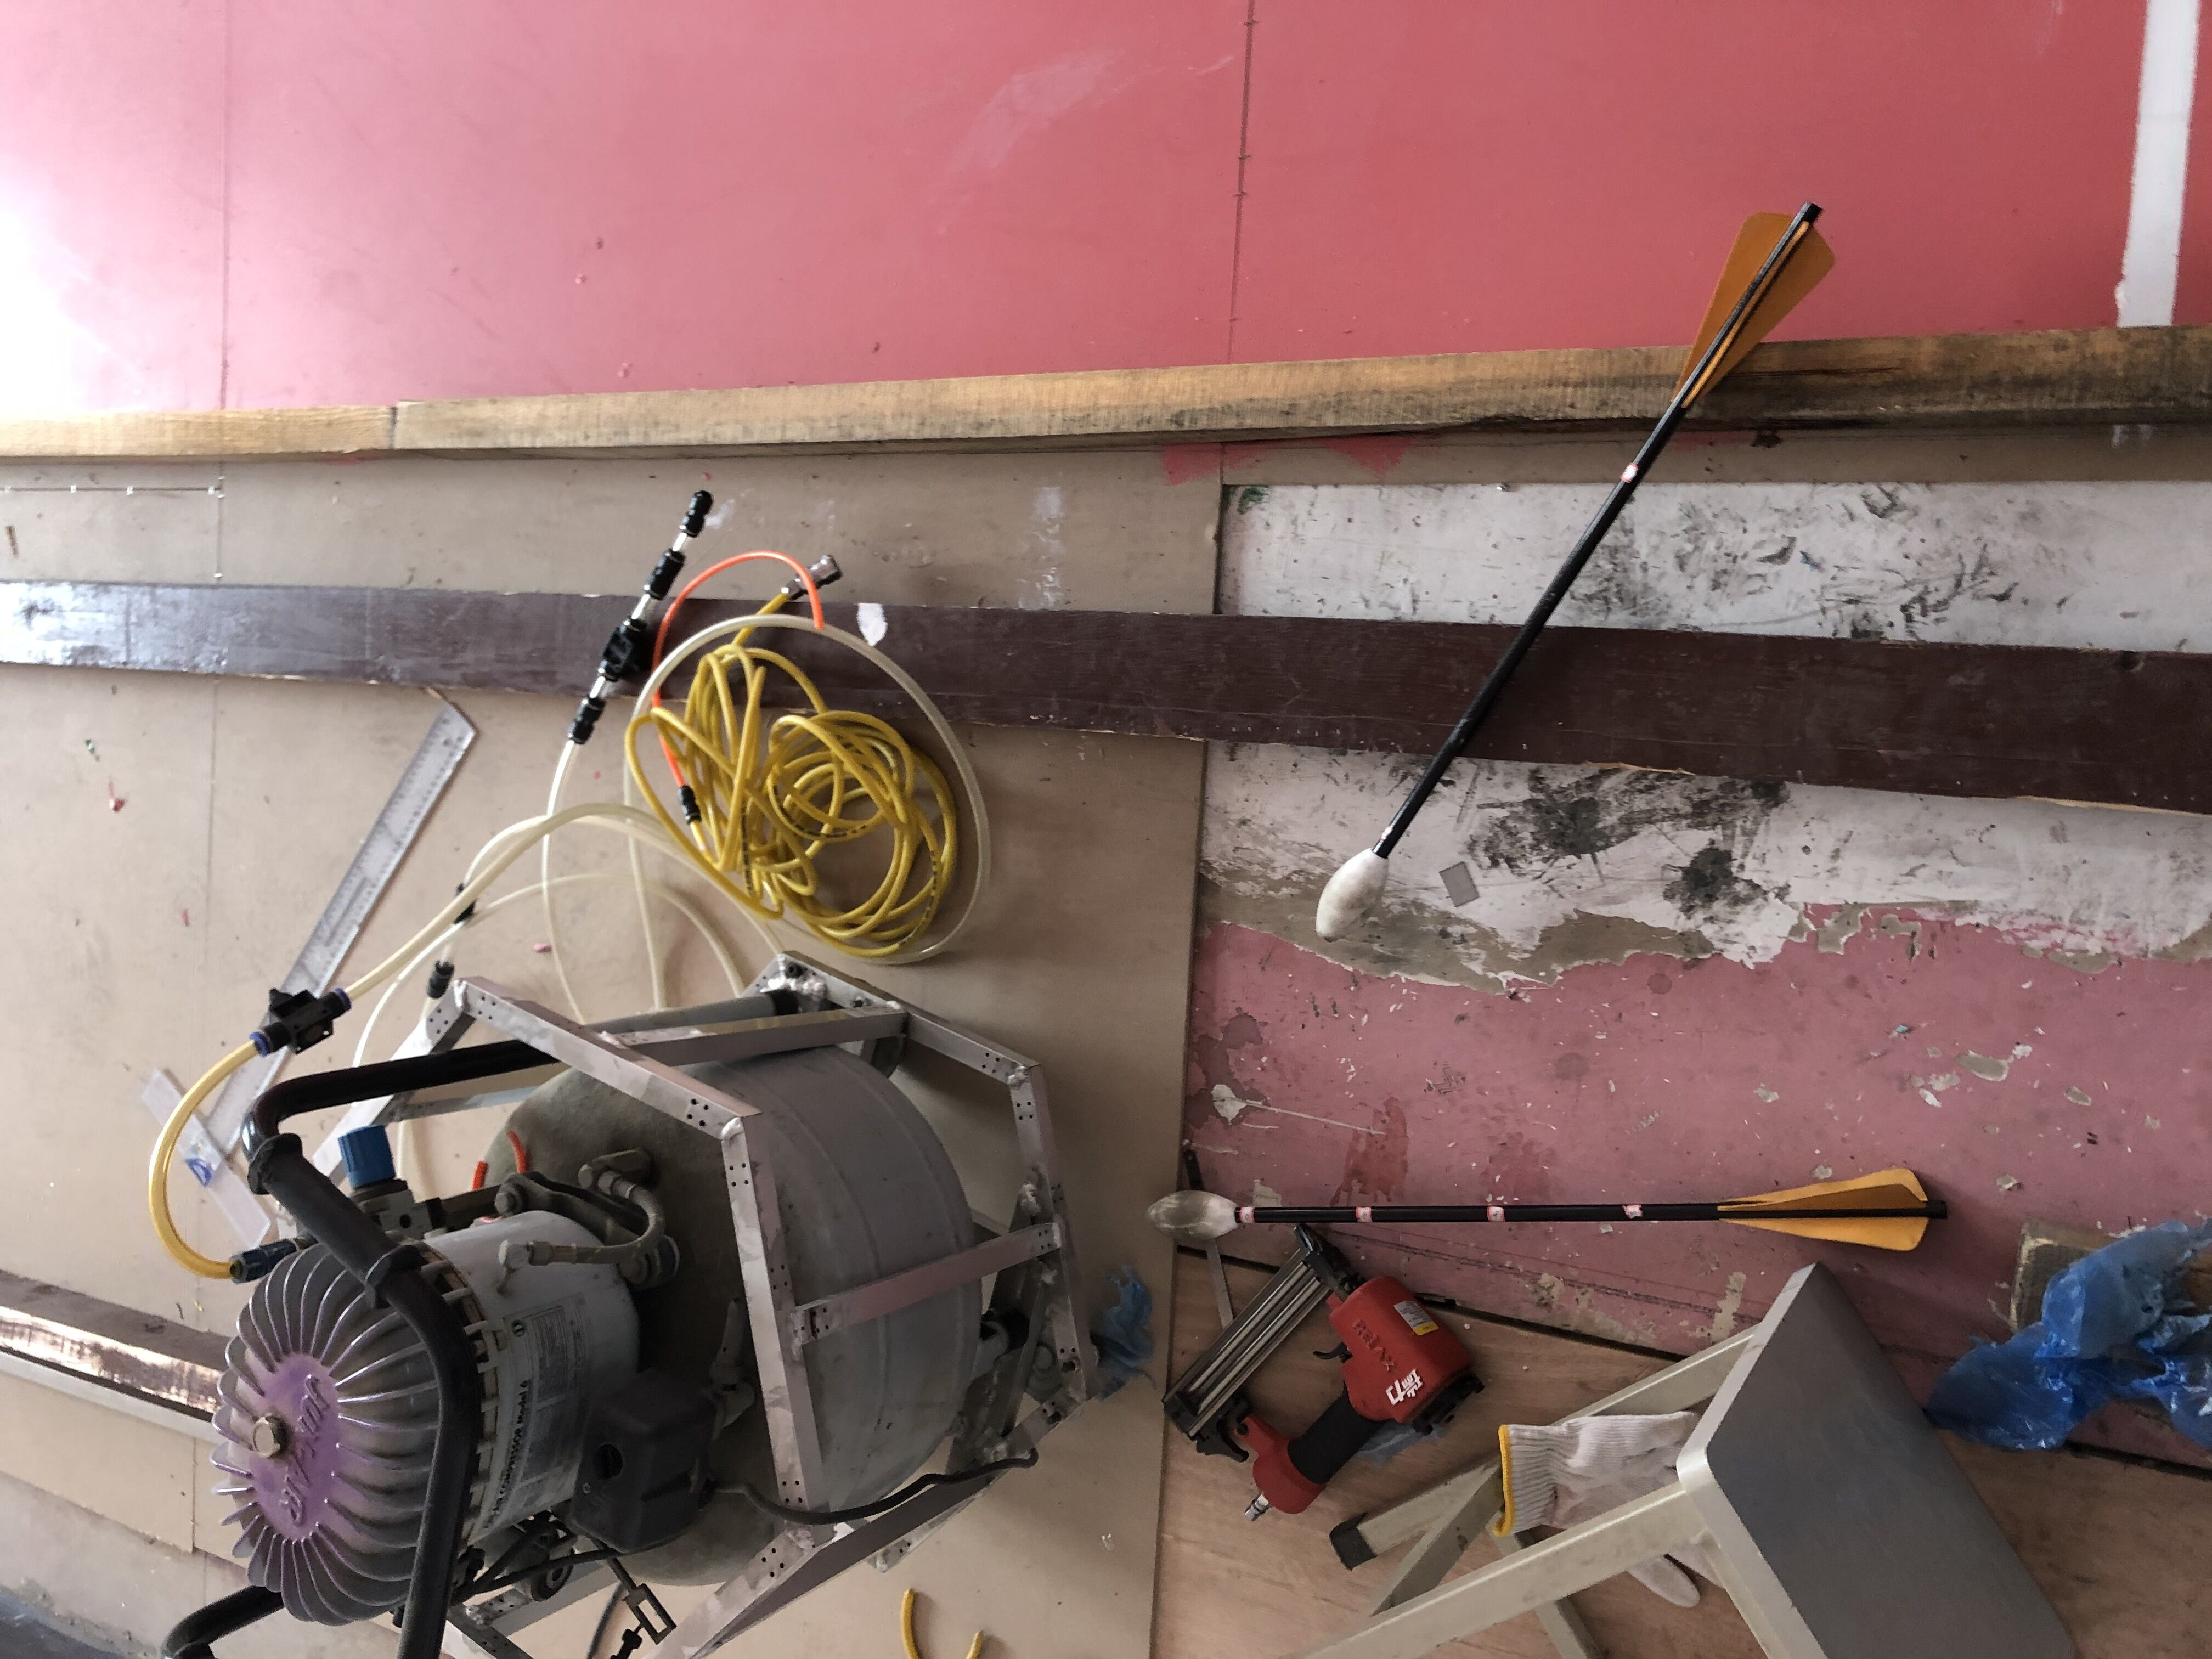arrow: (1313, 197, 1839, 943), (1144, 1168, 1944, 1249)
arrowFront: (1318, 849, 1390, 941), (1144, 1188, 1238, 1237)
